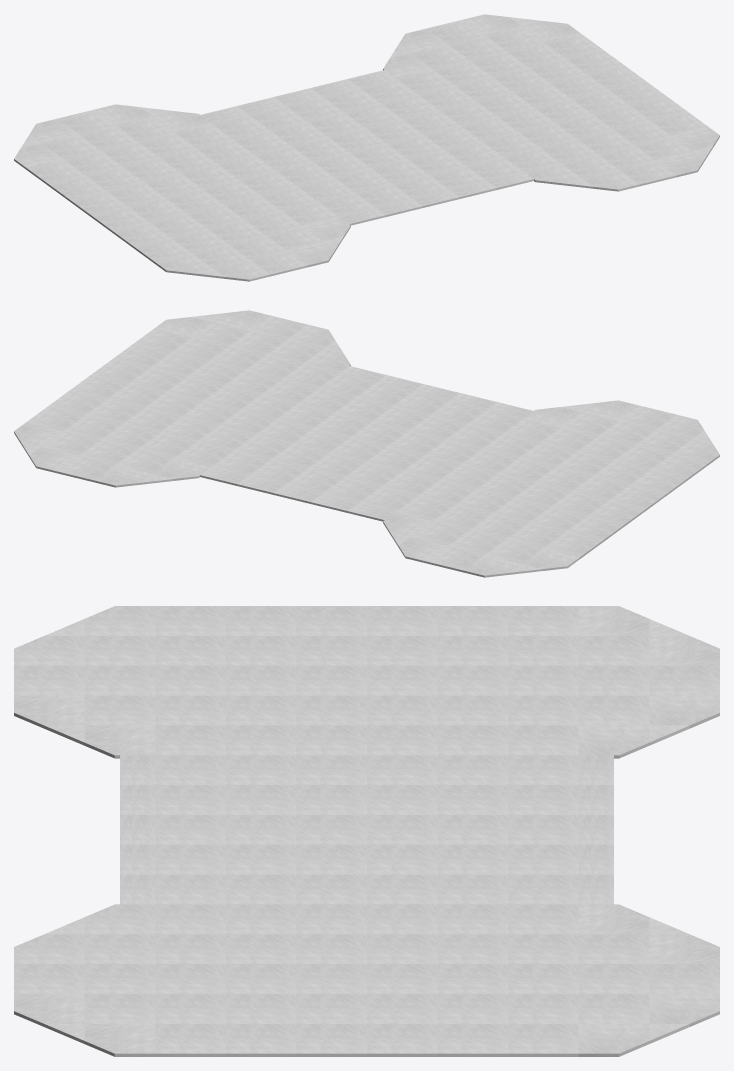
Rendered from floor.fbx.
The picture shows the model from 3 angles, top to bottom: view 1: azimuth 30°, elevation 25°; view 2: azimuth 150°, elevation 25°; view 3: azimuth 270°, elevation 25°; orthographic projection. The views are drawn at different scales.
Parts seen in each view (by area): view 1: pCube122, pCube22, pCube5, pCube8, pCube4, pCube6, pCube9, pCube7, pCube156, pCube112, pCube19, pCube40 (+115 smaller); view 2: pCube131, pCube31, pCube5, pCube8, pCube7, pCube9, pCube4, pCube6, pCube165, pCube162, pCube14, pCube33 (+115 smaller); view 3: pCube145, pCube148, pCube144, pCube146, pCube147, pCube149, pCube23, pCube25, pCube28, pCube30, pCube45, pCube48 (+120 smaller).
Part boxes in pixels (x1,y1,x2,y2): pCube122: (619,160,676,186); pCube22: (249,250,307,276); pCube5: (111,221,169,247); pCube8: (47,174,105,200); pCube4: (132,237,190,262); pCube6: (90,205,147,231); pCube9: (26,159,83,184); pCube7: (69,190,126,215); pCube156: (213,259,270,281); pCube112: (582,169,639,191); pCube19: (63,150,120,174); pCube40: (116,116,173,140); pCube131: (57,456,114,482); pCube31: (426,546,484,572); pCube5: (628,470,686,496); pCube8: (564,517,622,543); pCube7: (586,501,643,527); pCube9: (543,533,601,558); pCube4: (650,455,707,480); pCube6: (607,486,664,511); pCube165: (463,555,520,577); pCube162: (94,465,151,487); pCube14: (613,446,670,470); pCube33: (560,412,617,436); pCube145: (225,1024,296,1056); pCube148: (437,1024,508,1056); pCube144: (155,1024,225,1056); pCube146: (296,1024,366,1056); pCube147: (367,1024,437,1056); pCube149: (508,1024,578,1056); pCube23: (84,665,155,695); pCube25: (225,665,296,695); pCube28: (437,665,508,695); pCube30: (578,665,649,695); pCube45: (225,725,296,755); pCube48: (437,725,508,755).
Bounding box in the file's own units: 30000 × 126 × 20000.
